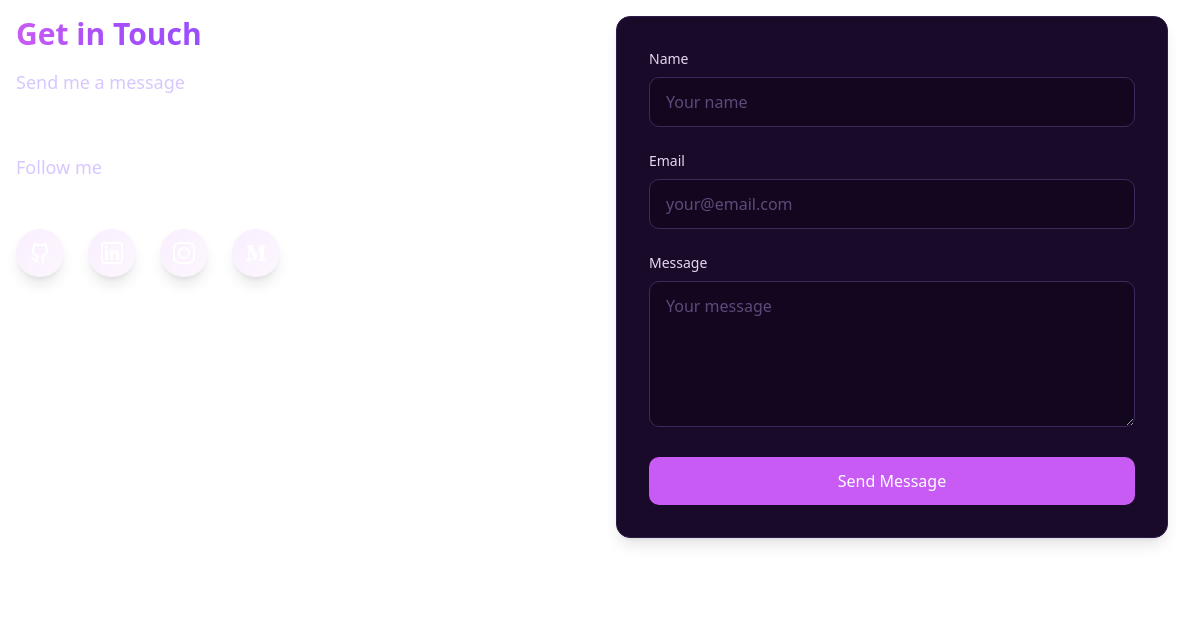
ContactForm › form validation › shows error when email is empty
Type "John Doe" into the field labelled "Name" at [892, 102], box [649,77,1135,127]
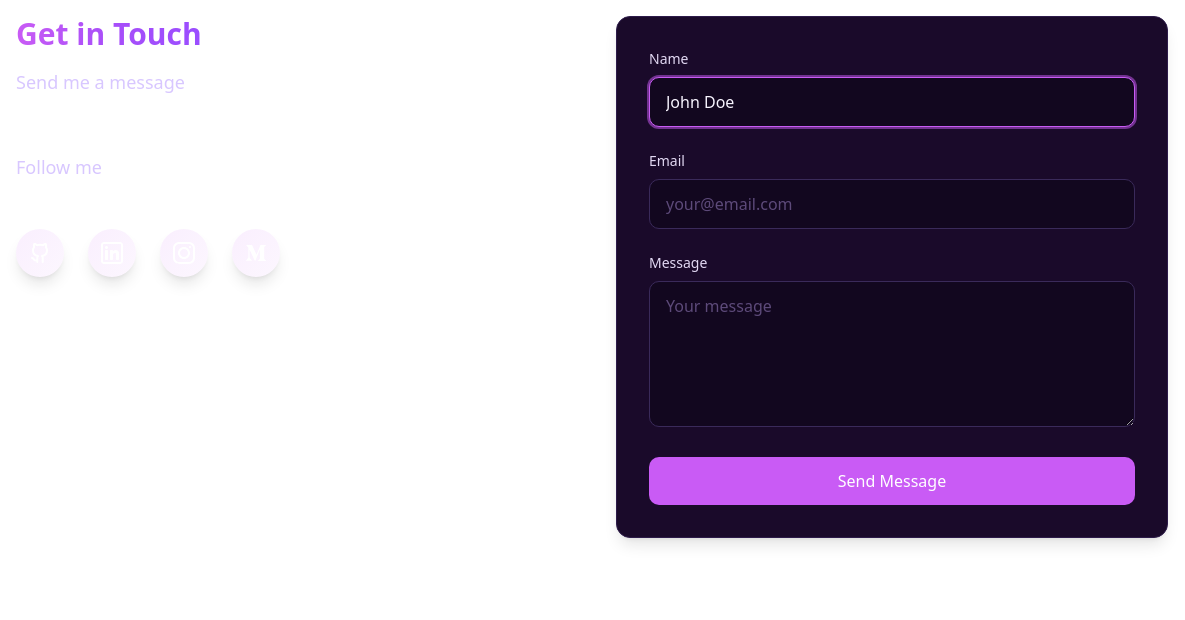
Click the button "Send Message" at [892, 481], box [649,457,1135,505]
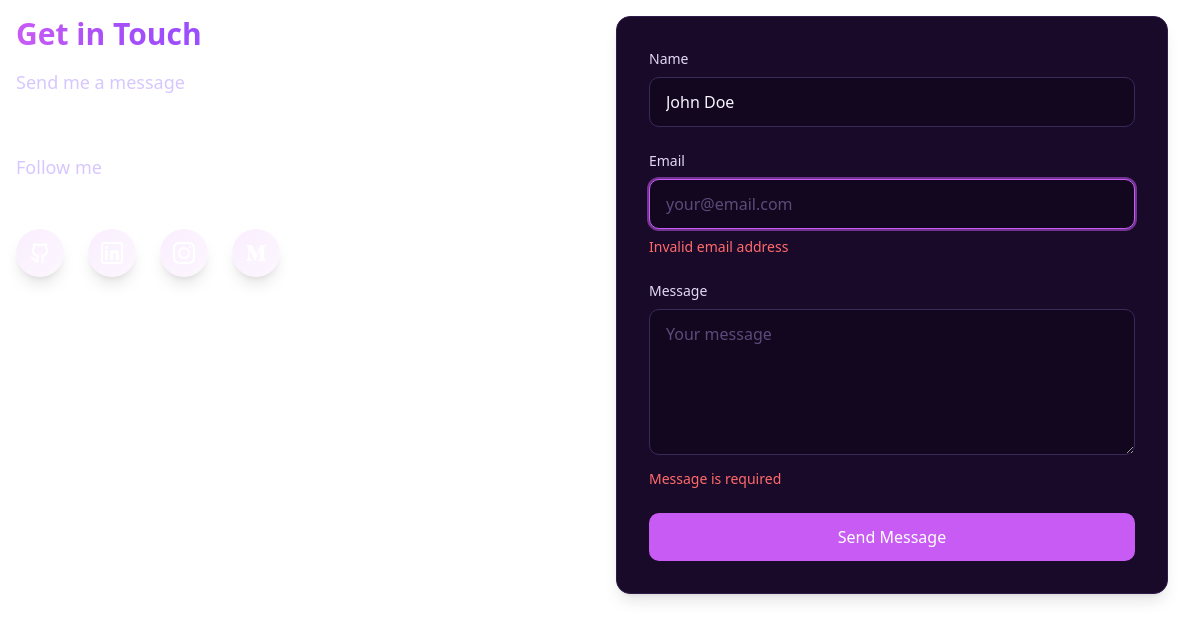
Check: the text "Invalid email address" is shown, box [649,237,788,256]
